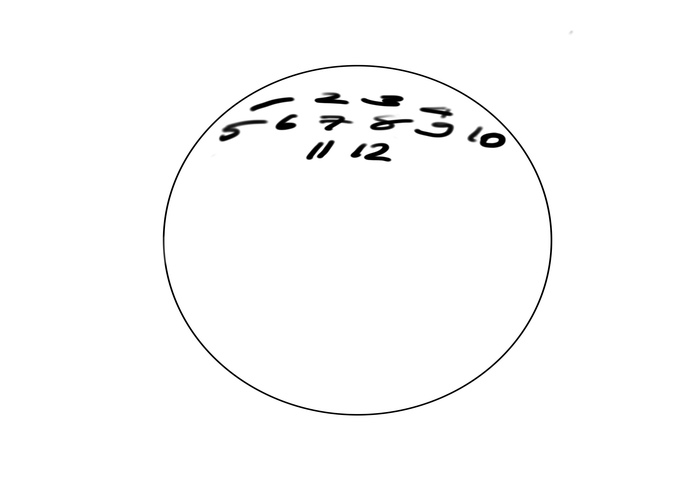eight: (372, 111, 414, 133)
eleven: (310, 135, 331, 164)
five: (219, 120, 265, 141)
four: (417, 99, 456, 119)
nine: (414, 120, 455, 141)
one: (247, 93, 298, 108)
seven: (317, 112, 355, 133)
six: (276, 107, 299, 134)
ten: (467, 127, 504, 149)
three: (361, 90, 405, 108)
twelve: (349, 137, 395, 166)
two: (314, 88, 350, 107)
